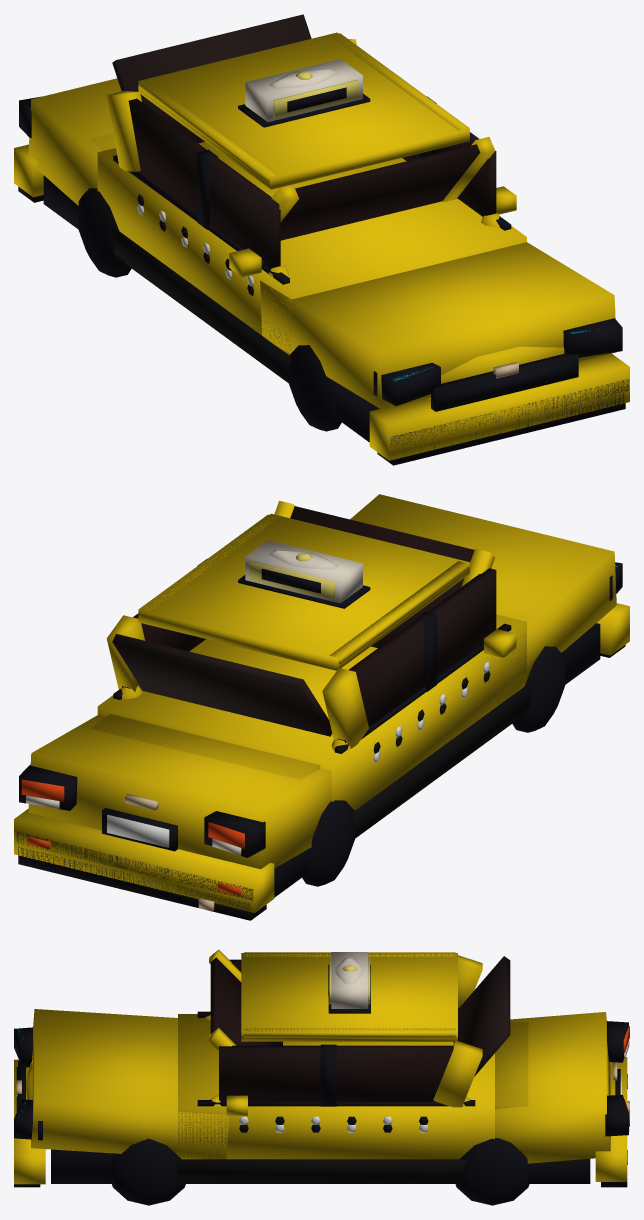
Rendered from taxi_cab.glb.
3 renders of one model, top to bottom at view 1: azimuth 30°, elevation 25°; view 2: azimuth 150°, elevation 25°; view 3: azimuth 270°, elevation 25°, orthographic. The views are drawn at different scales.
Parts seen in each view (by area): view 1: taxi_cab; view 2: taxi_cab; view 3: taxi_cab.
Boxes of the visible parts, bbox=[...] form: taxi_cab: bbox=[14, 14, 629, 465]; taxi_cab: bbox=[14, 494, 629, 920]; taxi_cab: bbox=[14, 949, 629, 1205].
Size of the model in its own units: 1.96 by 1.64 by 4.66.
